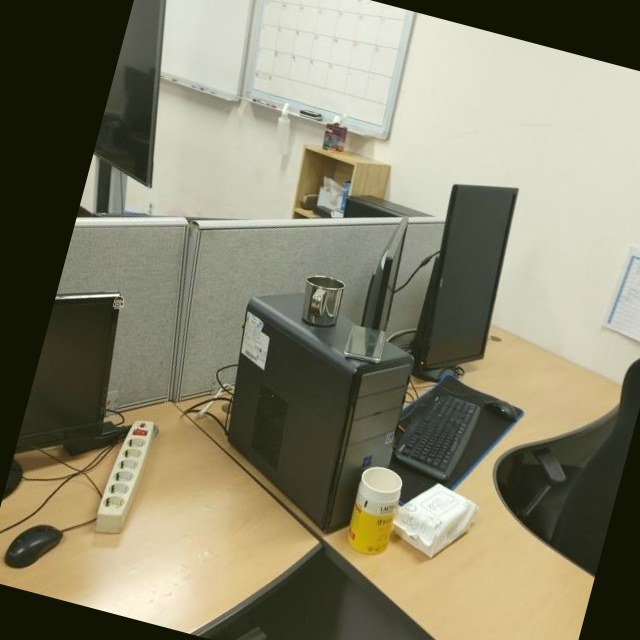cup: (295, 271, 351, 333)
phone: (341, 320, 391, 368)
